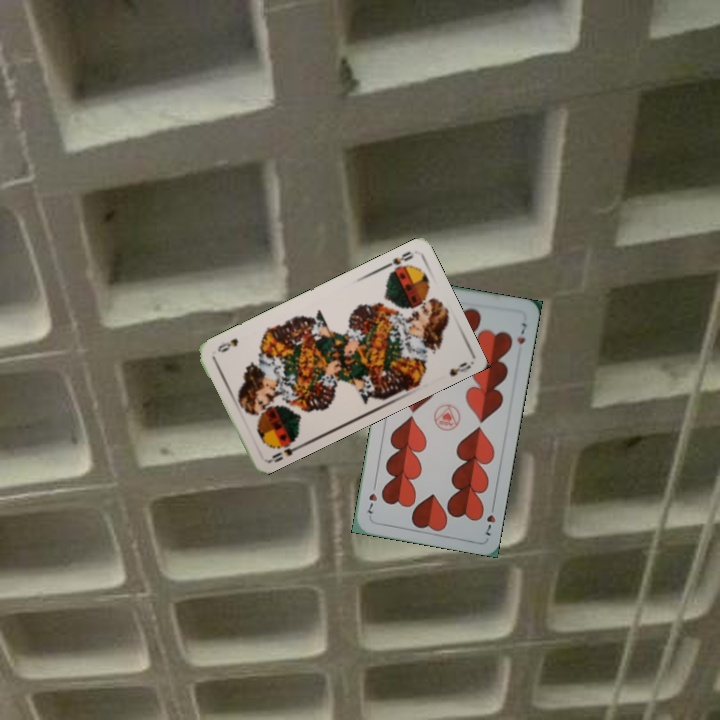H7: (481, 499, 498, 539)
SO: (262, 435, 302, 466), (379, 247, 415, 272)
